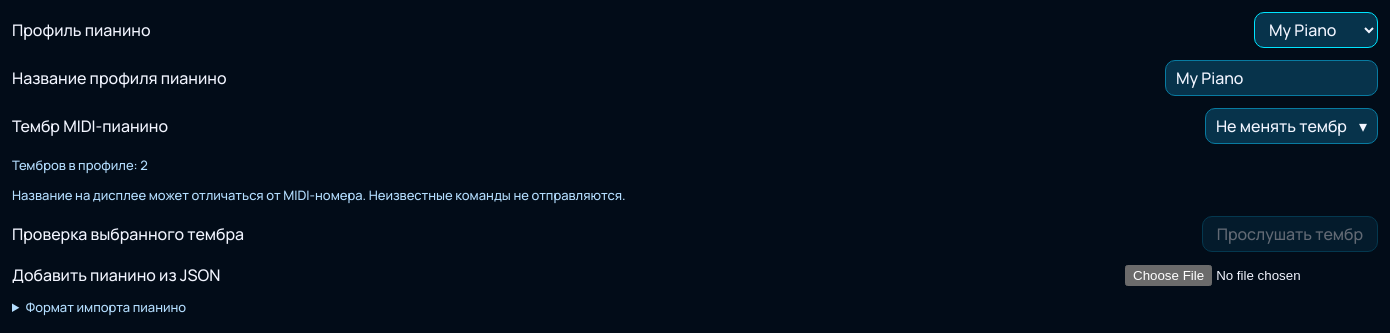
Test: allows no piano profile while keeping import and its example available
Select "Не выбран" in the dropdown labelled "Профиль пианино": (1316, 30) [1254,12,1378,48]
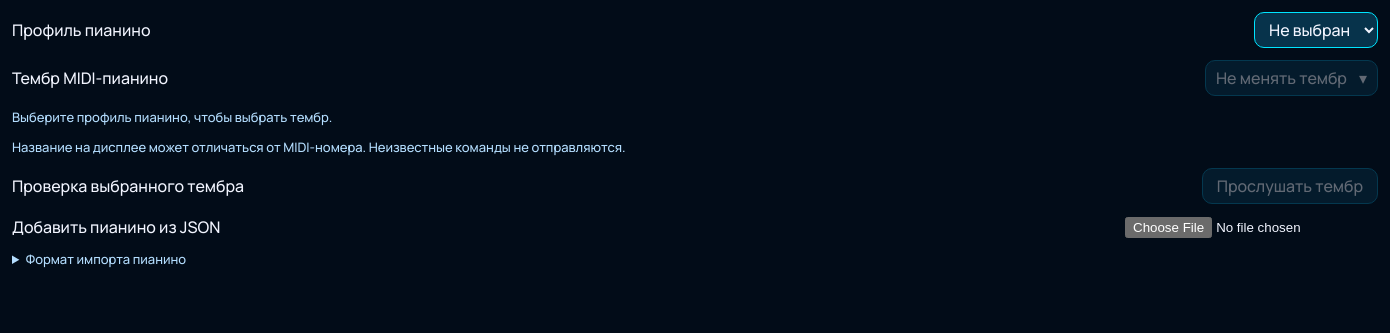
Check: the dropdown labelled "Не менять тембр ▾" is disabled, box [1205,60,1378,96]
Check: the field is gone
Check: the text "Тембров в профиле:" is gone
